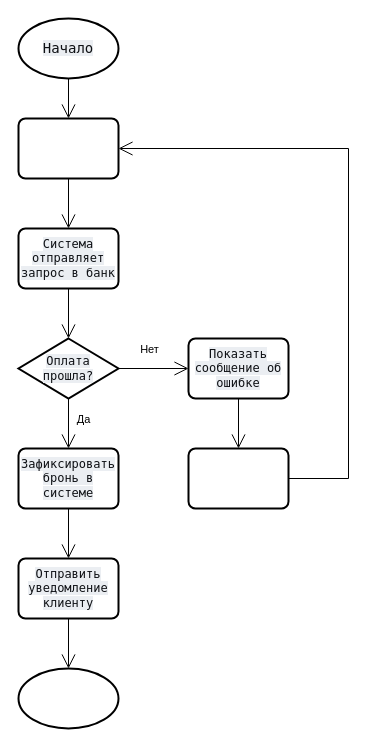
This 380x746 diagram has some shape labels left out. The shapes that lost their labels are listed below. From the top down, each one's centre as x and y in pixels, then its label:
At point 68,148: "Клиент вводит данные карты".
At point 238,478: "Предложить повторить оплату".
At point 68,698: "Конец".
